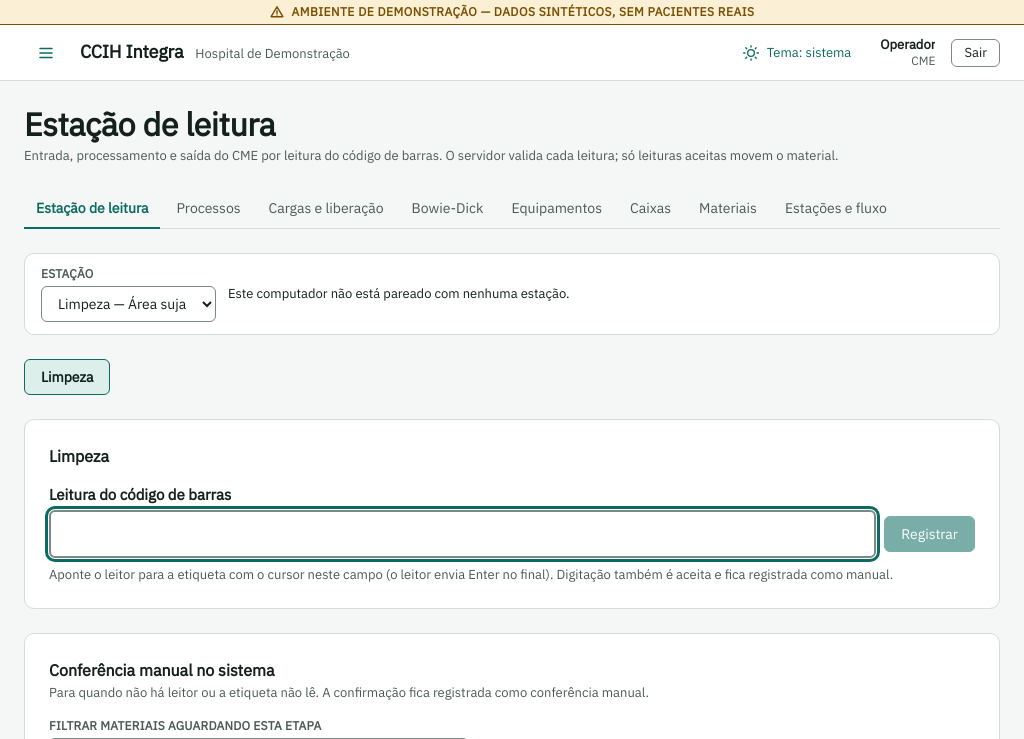
Test: reading station › sends the reading with station, step and an idempotency key, and shows the server decision
The image size is (1024, 739).
Type "AT-K7M2Q9X4" into the field labelled "Leitura do código de barras".
click(463, 534); type("AT-K7M2Q9X4")  # box [49,510,876,558]
Then press Enter
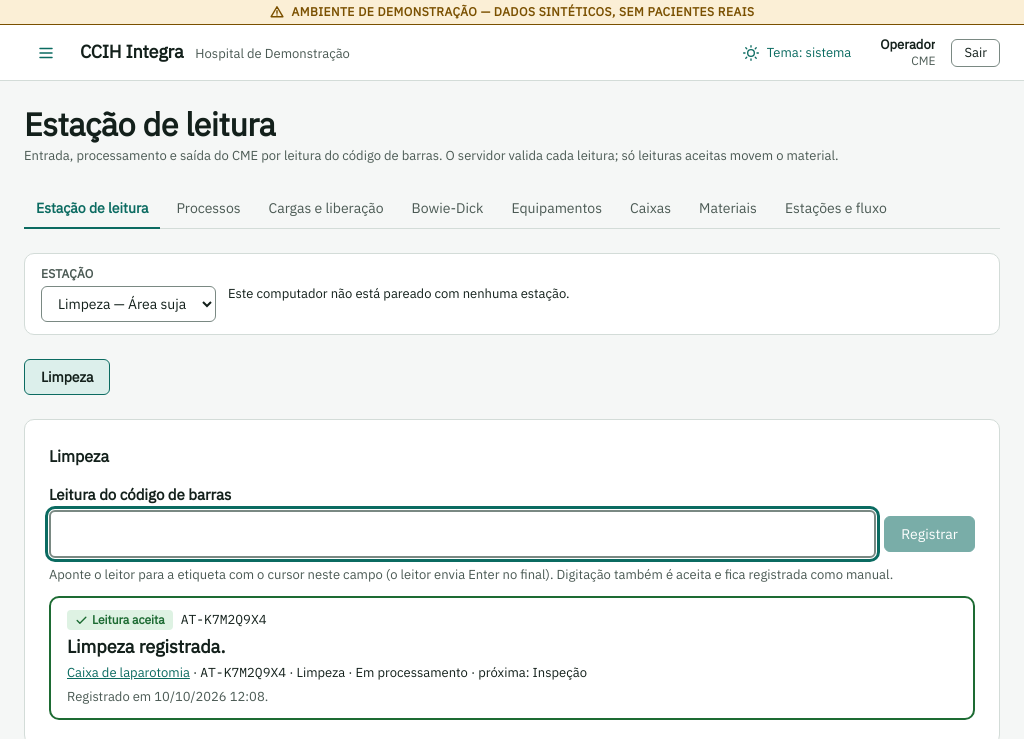
Expected: the text "Limpeza registrada." is shown, [67,635,225,658]
Expected: the text "Leitura aceita" is shown, [67,610,173,630]
